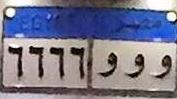6: (67, 42, 88, 81), (5, 43, 27, 80), (47, 45, 66, 81), (28, 43, 46, 81)
waw: (149, 50, 172, 82), (122, 49, 145, 81), (97, 49, 118, 79)
